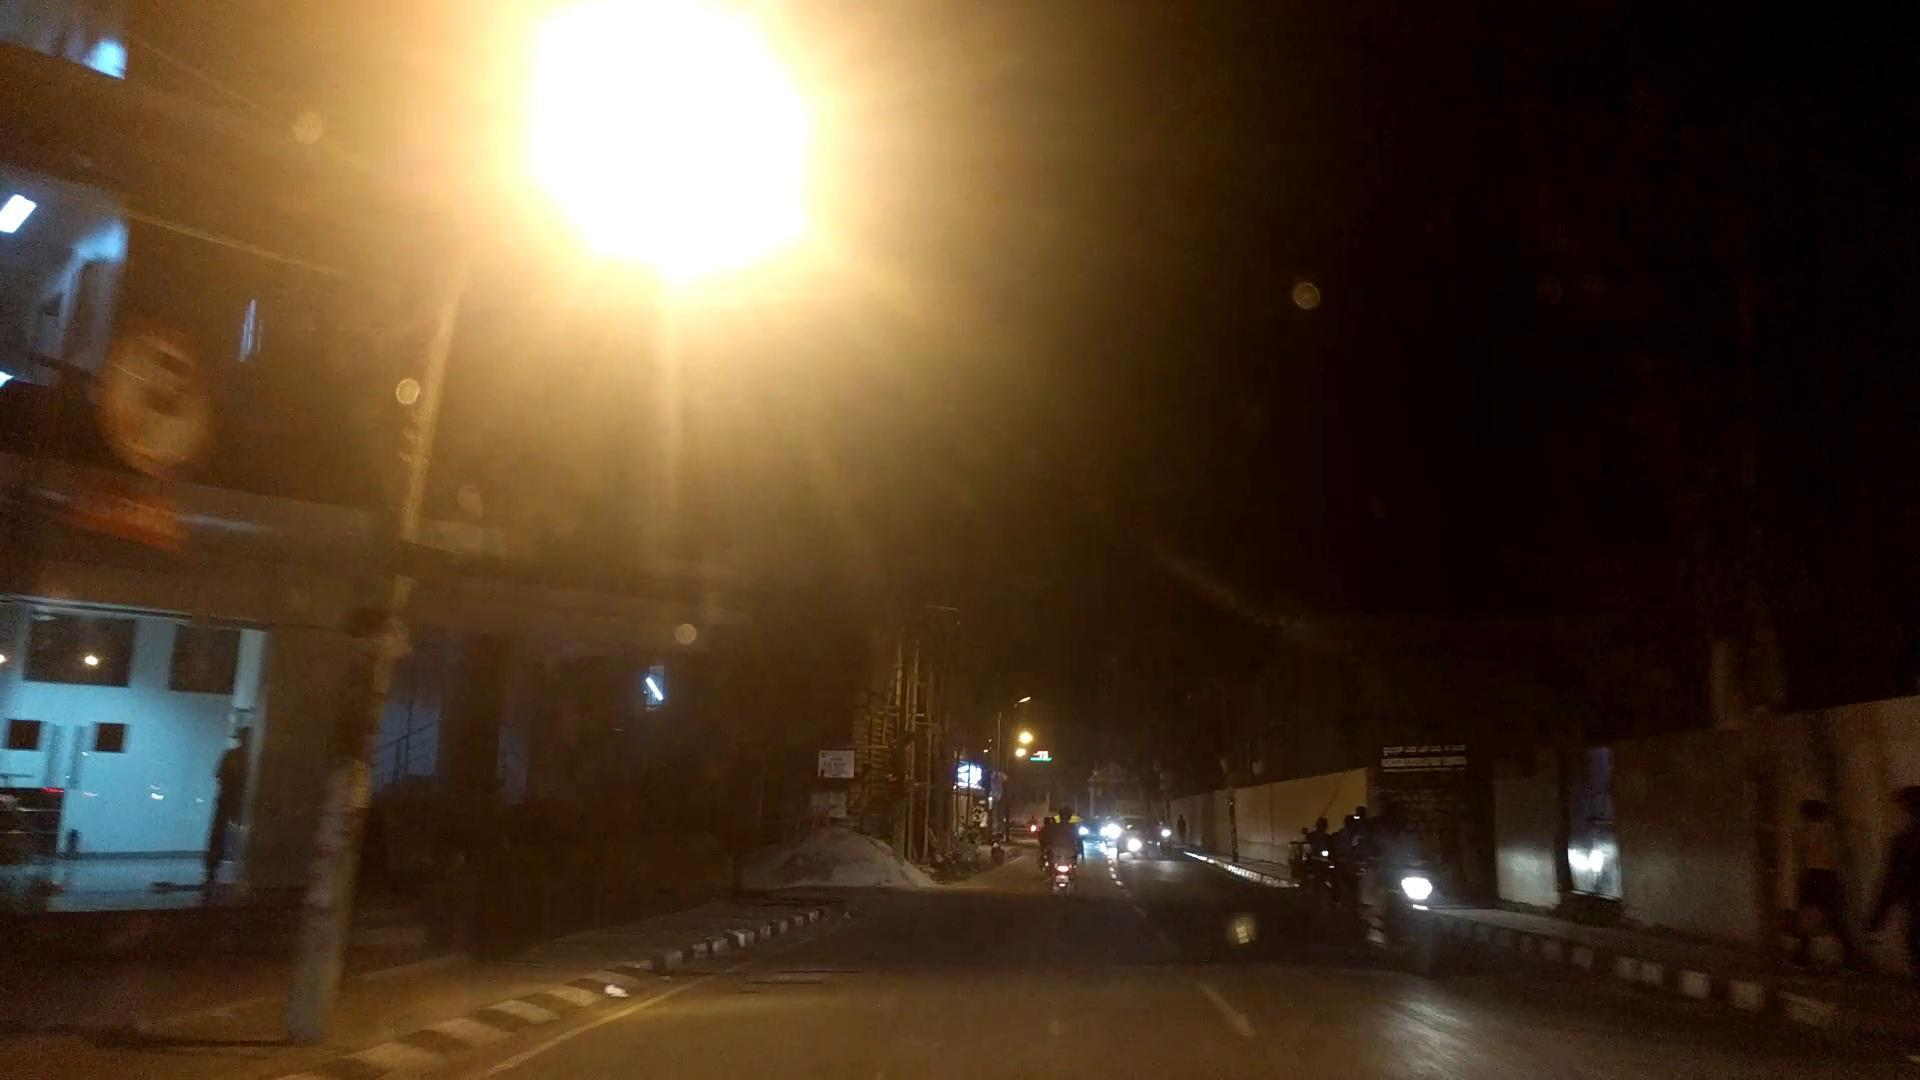on: (349, 0, 982, 378)
